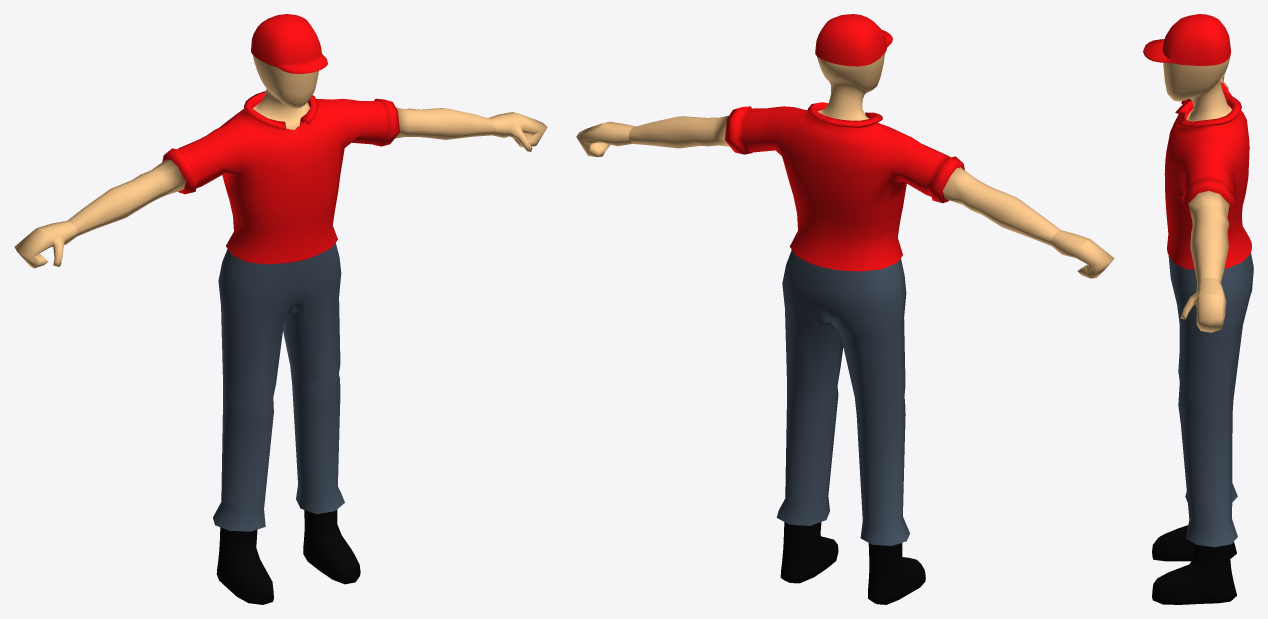
Rendered from PizzaGuy.fbx.
3 renders of one model, left to right at view 1: azimuth 30°, elevation 25°; view 2: azimuth 150°, elevation 25°; view 3: azimuth 270°, elevation 25°, orthographic.
Parts seen in each view (by area): view 1: PizzaGuy; view 2: PizzaGuy; view 3: PizzaGuy.
Part boxes in pixels (x1,y1,x2,y2): PizzaGuy: (14,14,547,604); PizzaGuy: (576,14,1114,604); PizzaGuy: (1143,14,1253,604).
Size of the model in its own units: 319 by 324 by 58.1.
